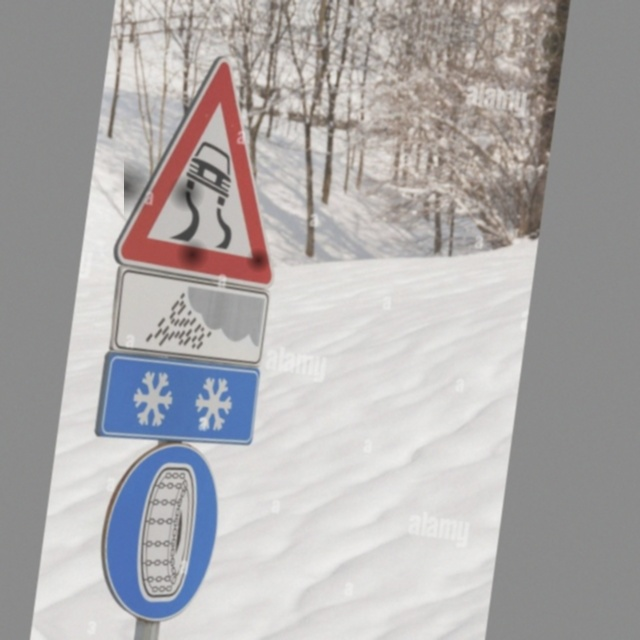Slippery_Road: (124, 45, 305, 290)
